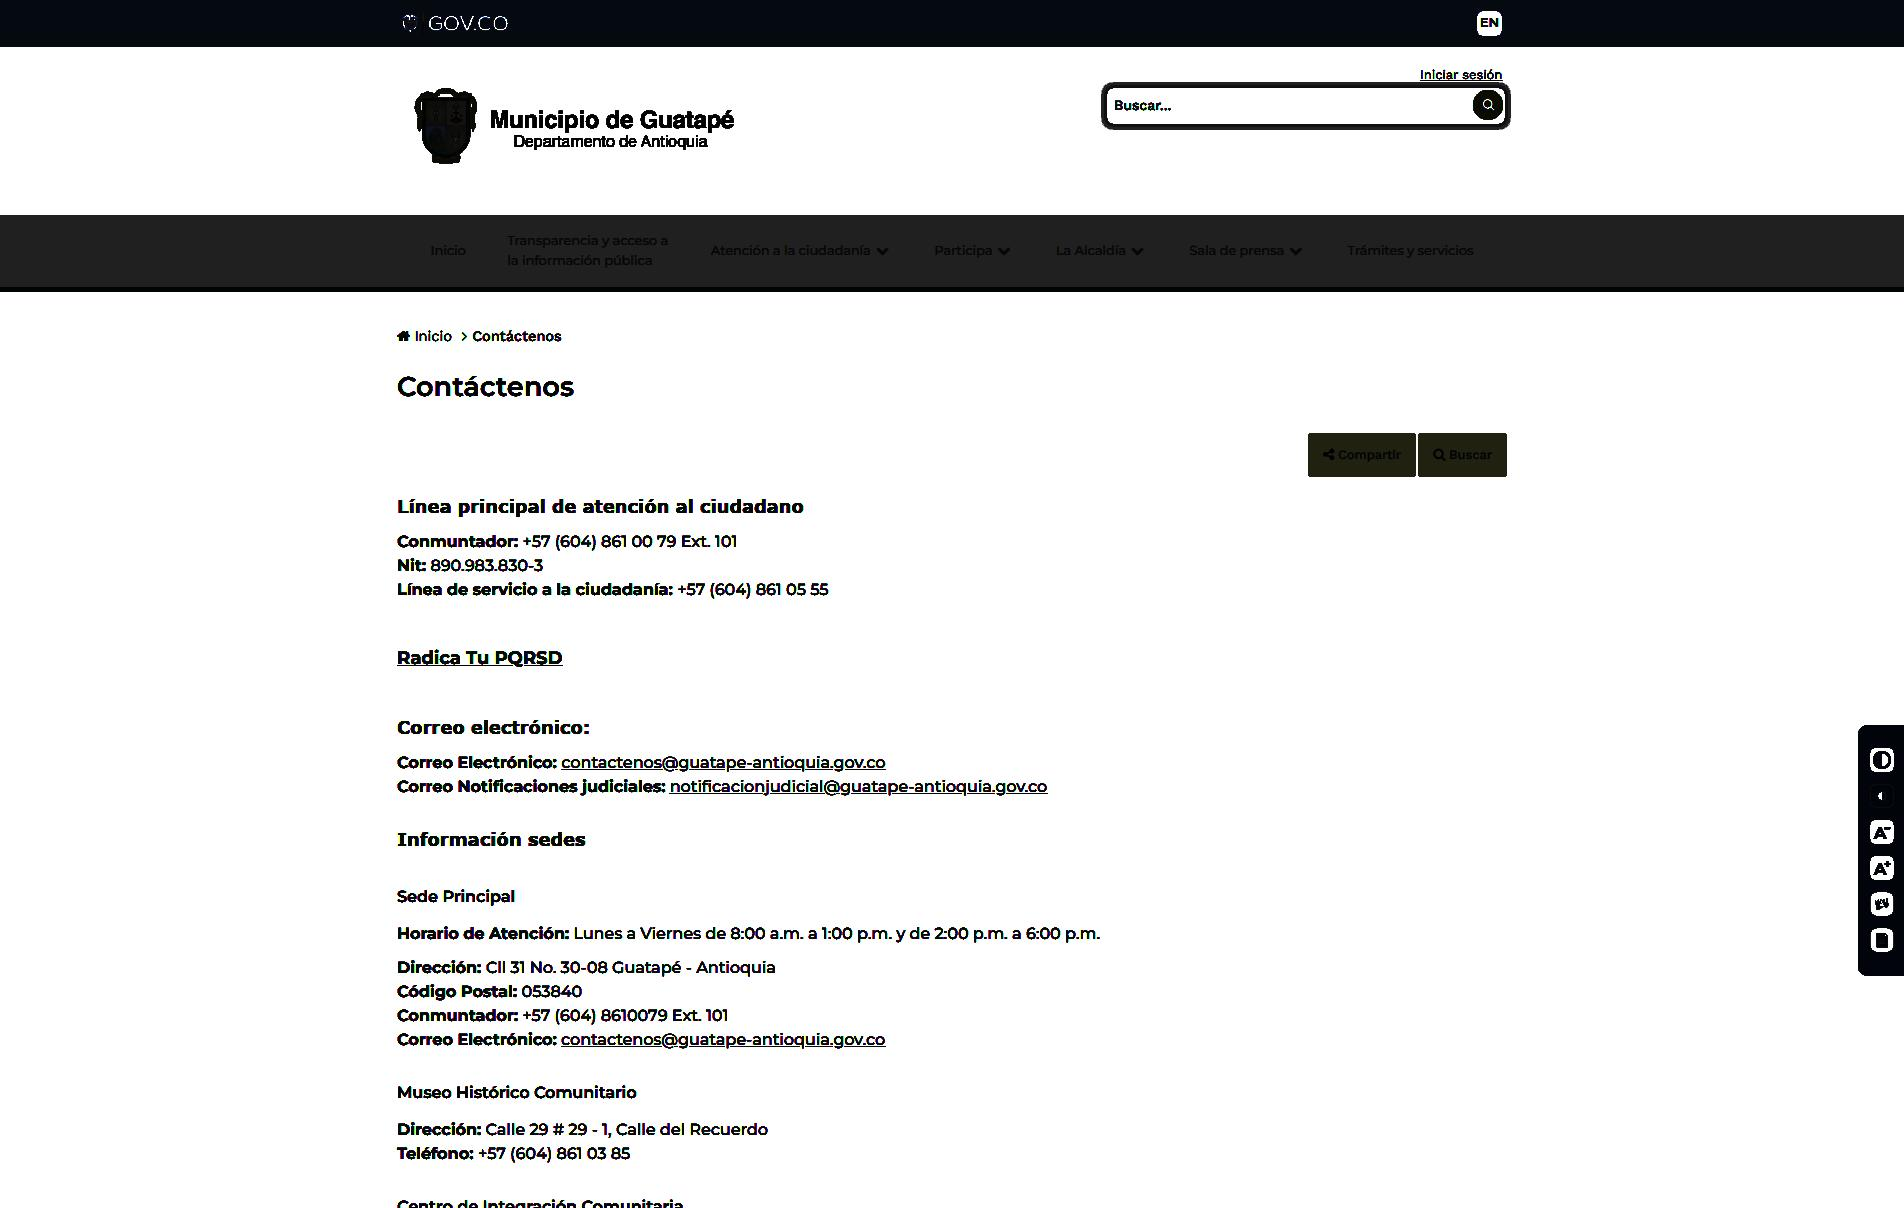barra accesibilidad: (1855, 720, 1904, 977)
barra govco: (396, 0, 1509, 50)
btn atencion ciudadano: (706, 239, 893, 264)
btn buscador: (1103, 84, 1508, 128), (1431, 444, 1448, 464)
btn idiomas: (1476, 10, 1503, 37)
btn inicio: (425, 240, 469, 259)
btn inicio sesion: (1418, 66, 1505, 84)
btn participa: (931, 239, 1013, 261)
btn sala prensa: (1185, 240, 1306, 262)
btn tramites: (1337, 235, 1480, 265)
btn transpariencia: (503, 231, 671, 272)
direccion: (391, 955, 484, 977)
horario atencion: (393, 922, 571, 946)
logogovco: (400, 11, 510, 39)
menu principal: (418, 211, 1487, 277)
notif judiciales: (391, 773, 669, 800)
